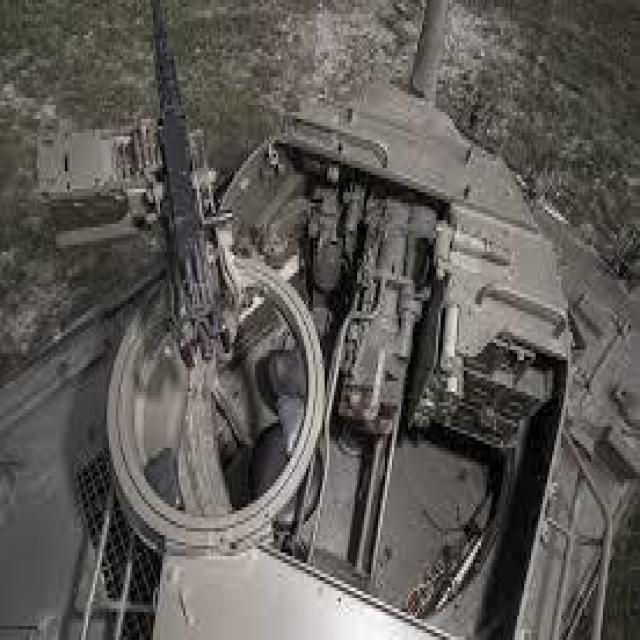Tanks: (100, 63, 621, 615)
